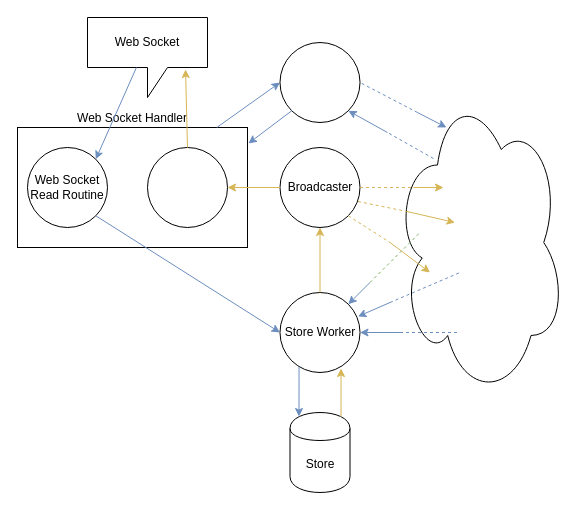
The diagram is 583 pixels wide and 510 high, and some of its shapes have lost their labels. Each missing label, with the centre of its shape:
Additional Web Socket Handlers: the point at 479,242
Registrar: the point at 319,82
Web Socket Write Routine: the point at 187,187
